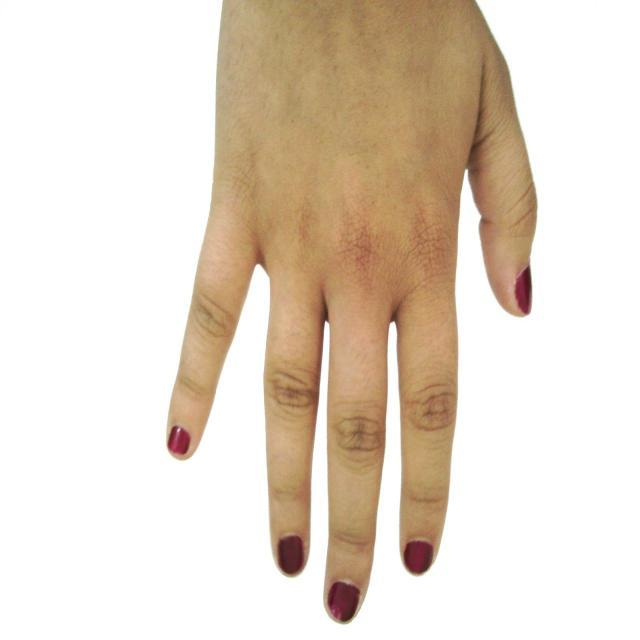Fingernail: (329, 583, 358, 623), (404, 541, 432, 574), (279, 537, 303, 574), (516, 268, 531, 314), (169, 426, 189, 456)
